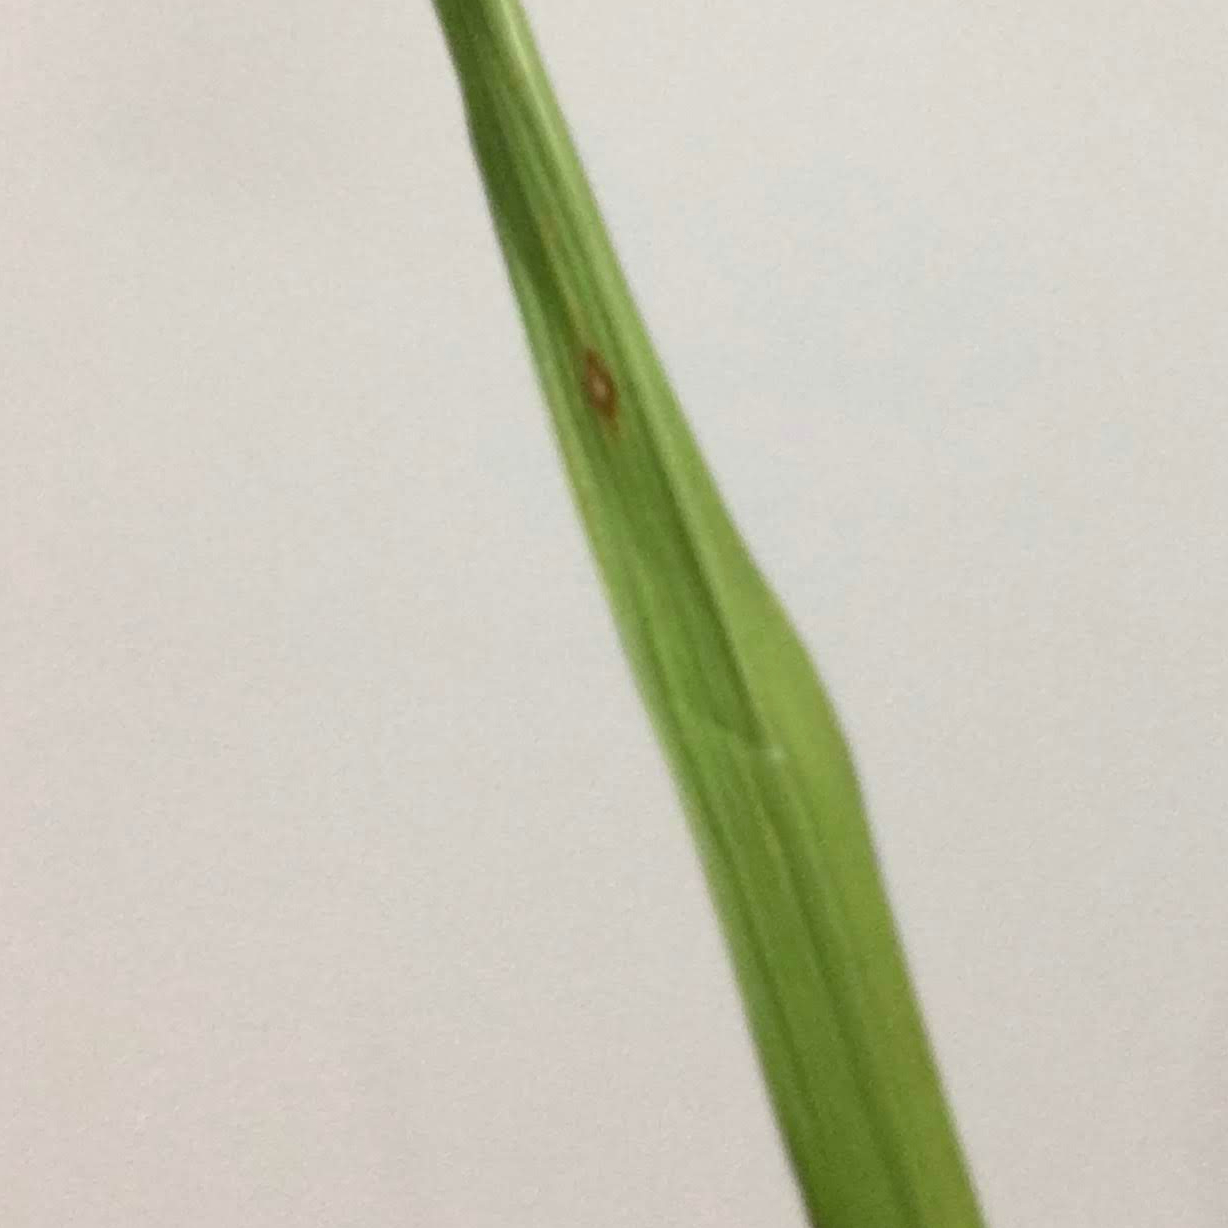leaf blast: (432, 1, 996, 1228)
